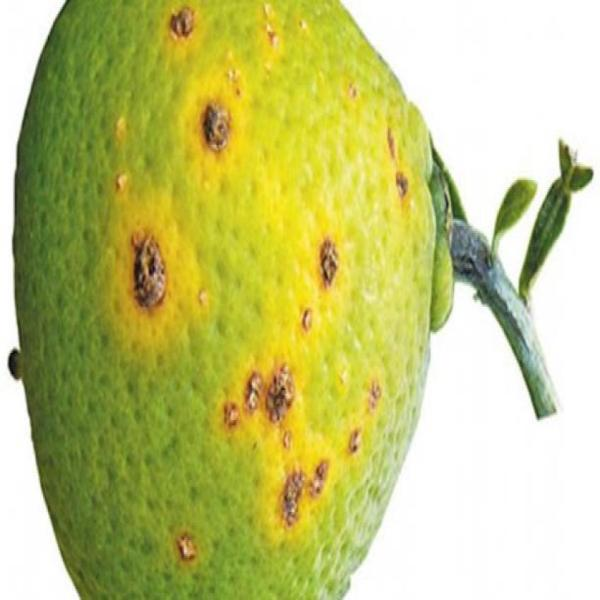Trips: (0, 0, 462, 599)
